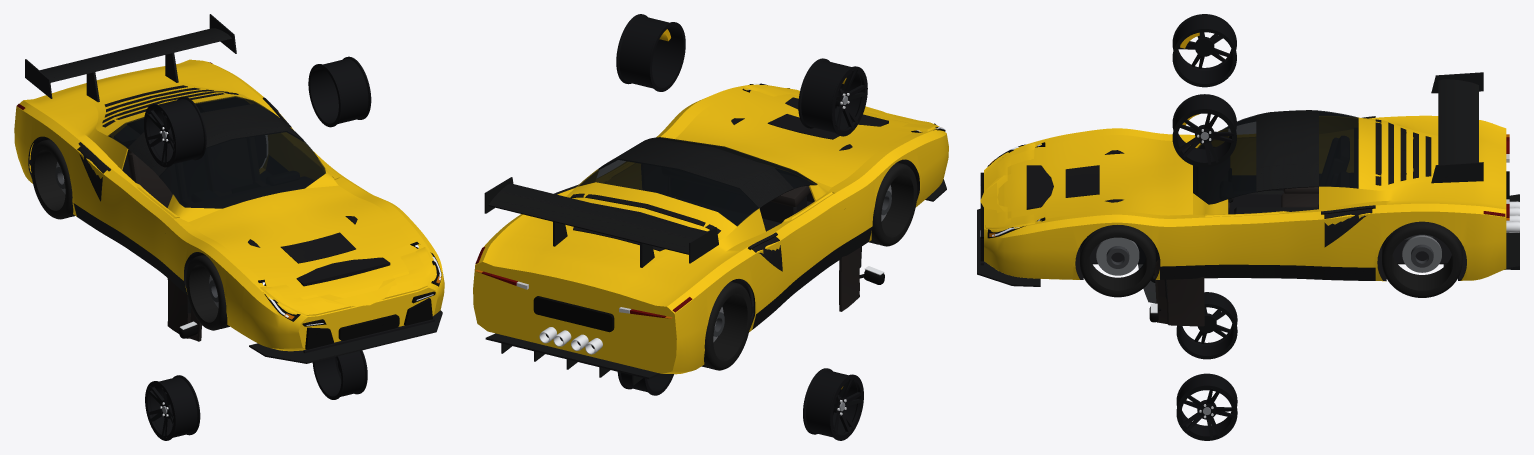
The model's file is CAR_Supercar_LOD0.fbx.
3 views of the same model, side by side, from view 1: azimuth 30°, elevation 25°; view 2: azimuth 150°, elevation 25°; view 3: azimuth 270°, elevation 25° (orthographic). The views are drawn at different scales.
Parts seen in each view (by area): view 1: CAR_FrontBumper, CAR_Hood, CAR_Body, CAR_Glass_Windshield, CAR_RearBumper, CAR_Fender_F_R, CAR_Spoiler, CAR_Door_R, CAR_Wheel_RL, CAR_Wheel_RR, CAR_EngineCover, CAR_Wheel_FR (+11 smaller); view 2: CAR_RearBumper, CAR_Body, CAR_Hood, CAR_Spoiler, CAR_EngineCover, CAR_Glass_Rear, CAR_Fender_F_R, CAR_Wheel_RR, CAR_Wheel_RL, CAR_Door_R, CAR_Wheel_FR, CAR_Tire_RR (+12 smaller); view 3: CAR_Body, CAR_Hood, CAR_FrontBumper, CAR_RearBumper, CAR_Fender_F_L, CAR_Door_L, CAR_EngineCover, CAR_Spoiler, CAR_Wheel_RL, CAR_Glass_Windshield, CAR_Wheel_RR, CAR_Tire_RL (+13 smaller).
Part boxes in pixels (x1=…): CAR_FrontBumper: x1=242, y1=239, x2=444, y2=353; CAR_Hood: x1=188, y1=185, x2=411, y2=279; CAR_Body: x1=30, y1=68, x2=357, y2=282; CAR_Glass_Windshield: x1=159, y1=131, x2=325, y2=208; CAR_RearBumper: x1=14, y1=59, x2=224, y2=183; CAR_Fender_F_R: x1=163, y1=218, x2=260, y2=336; CAR_Spoiler: x1=25, y1=14, x2=236, y2=98; CAR_Door_R: x1=104, y1=170, x2=179, y2=263; CAR_Wheel_RL: x1=308, y1=56, x2=371, y2=127; CAR_Wheel_RR: x1=144, y1=97, x2=206, y2=167; CAR_EngineCover: x1=89, y1=79, x2=252, y2=135; CAR_Wheel_FR: x1=145, y1=375, x2=200, y2=440; CAR_RearBumper: x1=473, y1=230, x2=711, y2=374; CAR_Body: x1=496, y1=118, x2=918, y2=332; CAR_Hood: x1=675, y1=92, x2=912, y2=187; CAR_Spoiler: x1=484, y1=177, x2=718, y2=263; CAR_EngineCover: x1=561, y1=182, x2=737, y2=264; CAR_Glass_Rear: x1=577, y1=158, x2=758, y2=226; CAR_Fender_F_R: x1=828, y1=132, x2=934, y2=243; CAR_Wheel_RR: x1=798, y1=58, x2=867, y2=136; CAR_Wheel_RL: x1=616, y1=14, x2=685, y2=91; CAR_Door_R: x1=767, y1=191, x2=844, y2=289; CAR_Wheel_FR: x1=803, y1=368, x2=863, y2=440; CAR_Tire_RR: x1=701, y1=281, x2=751, y2=370; CAR_Body: x1=1075, y1=110, x2=1454, y2=281; CAR_Hood: x1=1046, y1=135, x2=1192, y2=218; CAR_FrontBumper: x1=980, y1=139, x2=1046, y2=278; CAR_RearBumper: x1=1455, y1=120, x2=1509, y2=280; CAR_Fender_F_L: x1=1046, y1=211, x2=1205, y2=279; CAR_Door_L: x1=1205, y1=209, x2=1318, y2=266; CAR_EngineCover: x1=1358, y1=117, x2=1438, y2=190; CAR_Spoiler: x1=1431, y1=72, x2=1483, y2=183; CAR_Wheel_RL: x1=1172, y1=94, x2=1236, y2=167; CAR_Glass_Windshield: x1=1193, y1=115, x2=1256, y2=204; CAR_Wheel_RR: x1=1172, y1=14, x2=1236, y2=87; CAR_Tire_RL: x1=1382, y1=221, x2=1462, y2=297.
Size of the model in its own units: 2.09 by 3.23 by 4.78.
20 materials, 2 textured.
